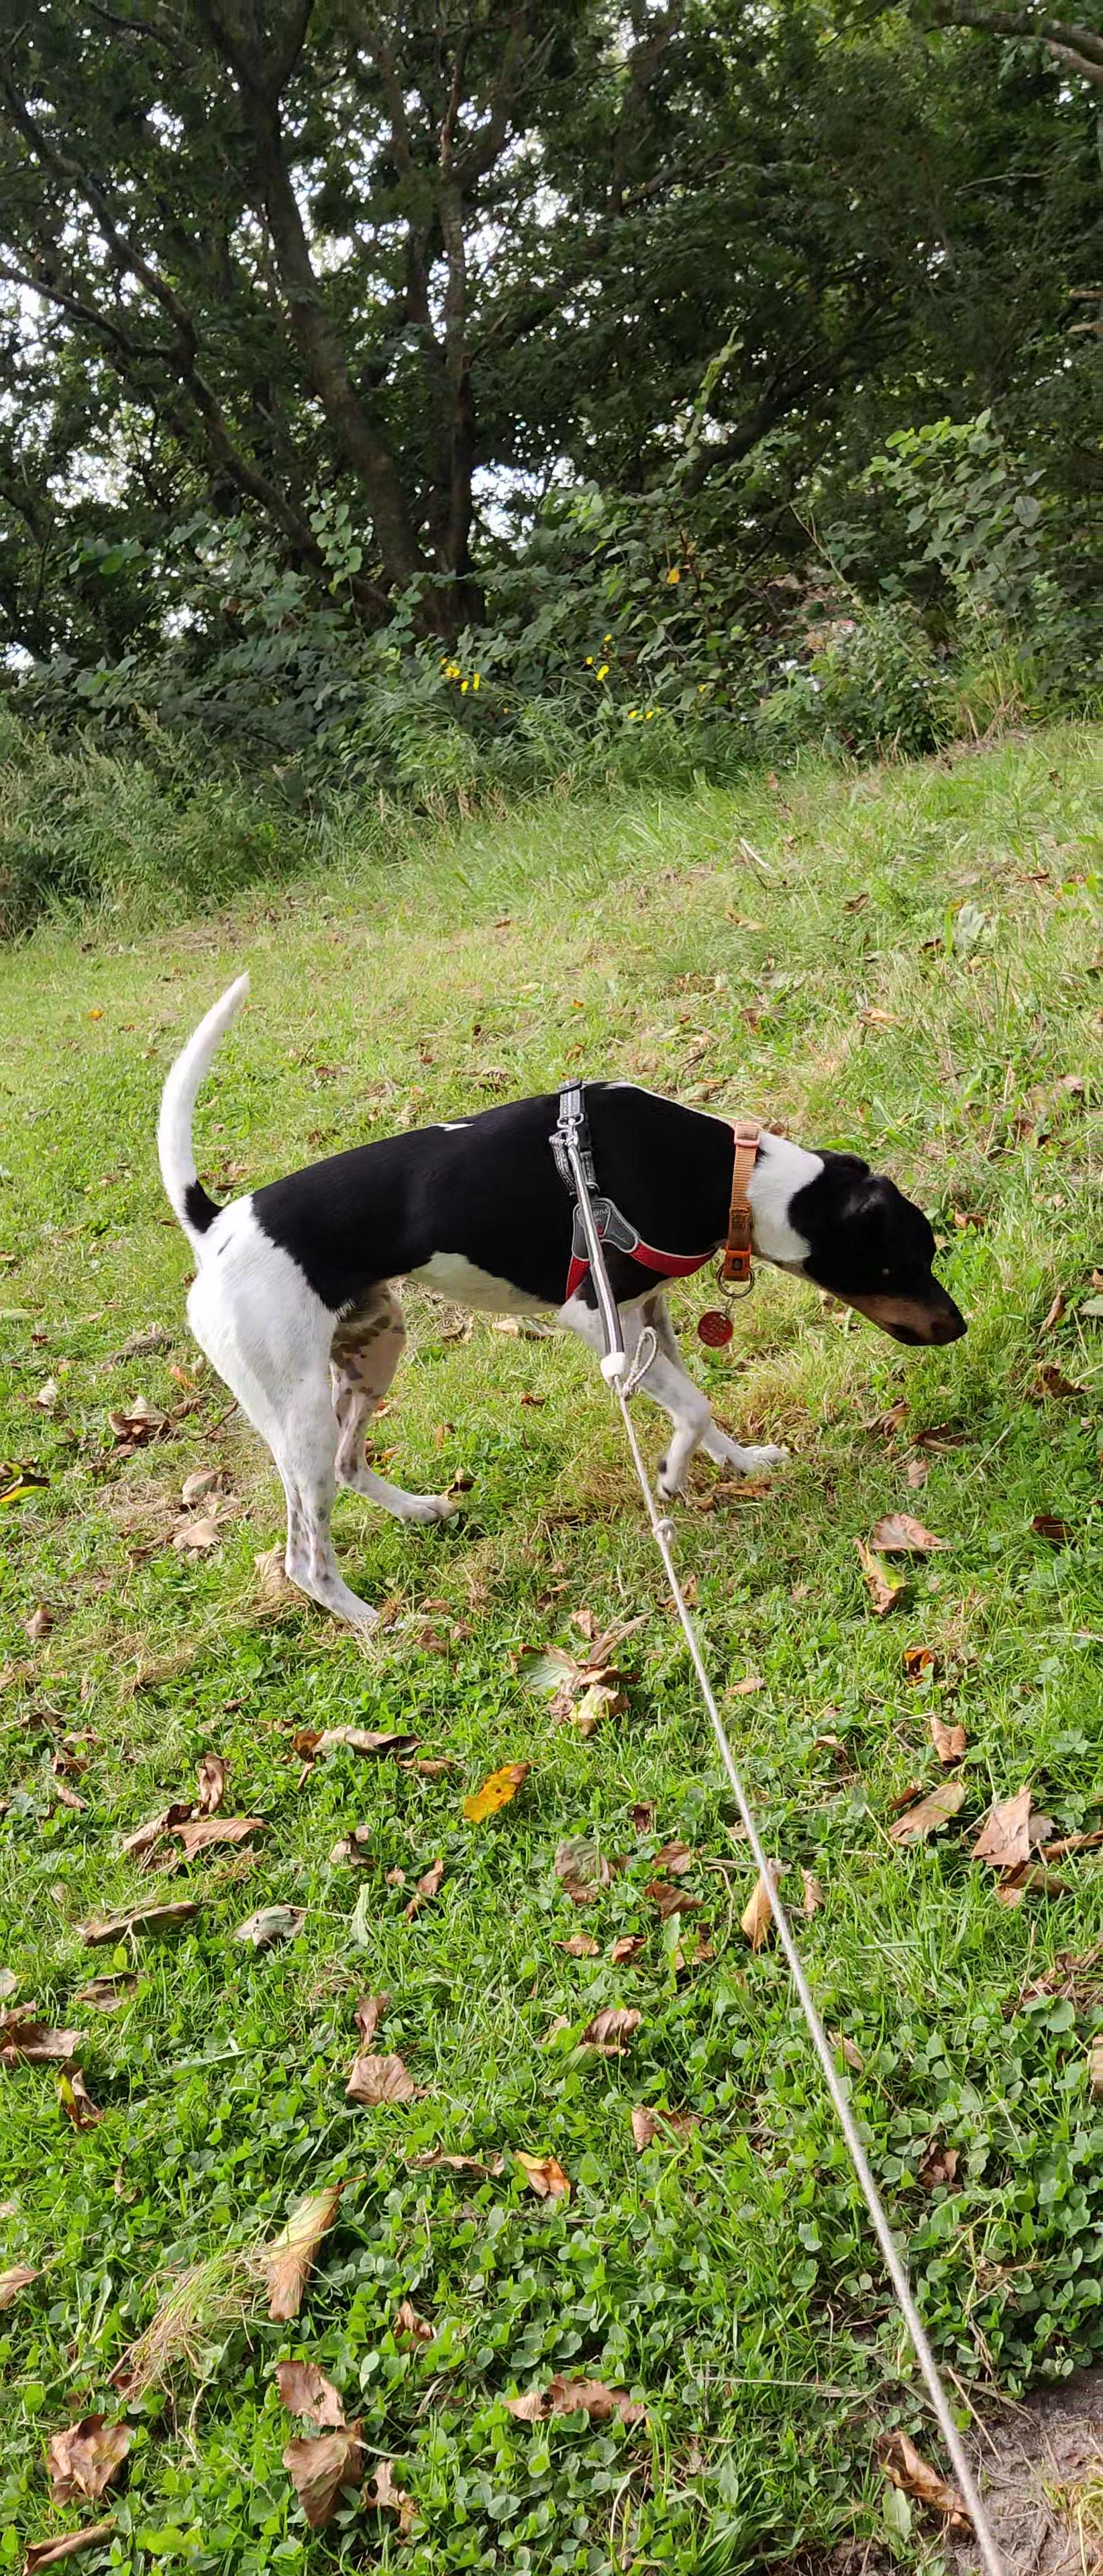Dog: (138, 943, 1004, 1664)
